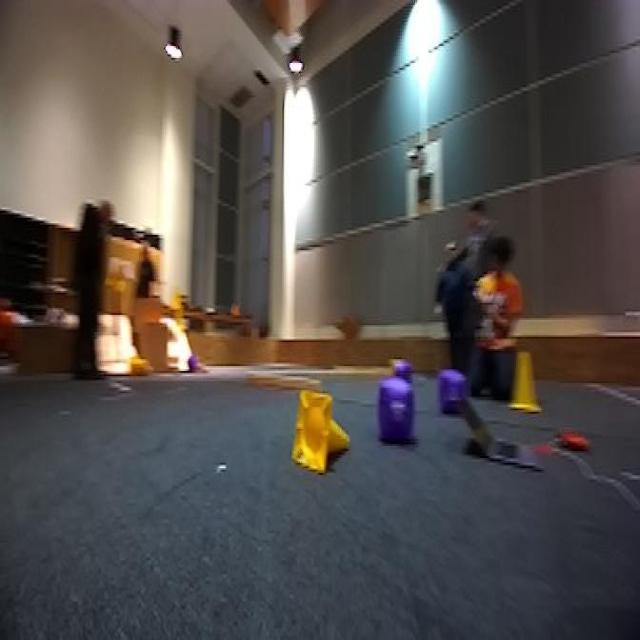frc_cone: (292, 392, 354, 476), (509, 349, 541, 415), (126, 352, 146, 378)
frc_cube: (377, 374, 415, 442), (436, 366, 468, 412), (390, 358, 410, 382), (185, 356, 201, 374)
